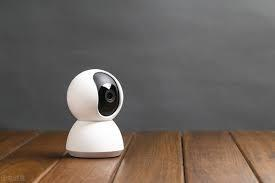maru: (66, 64, 124, 119)
